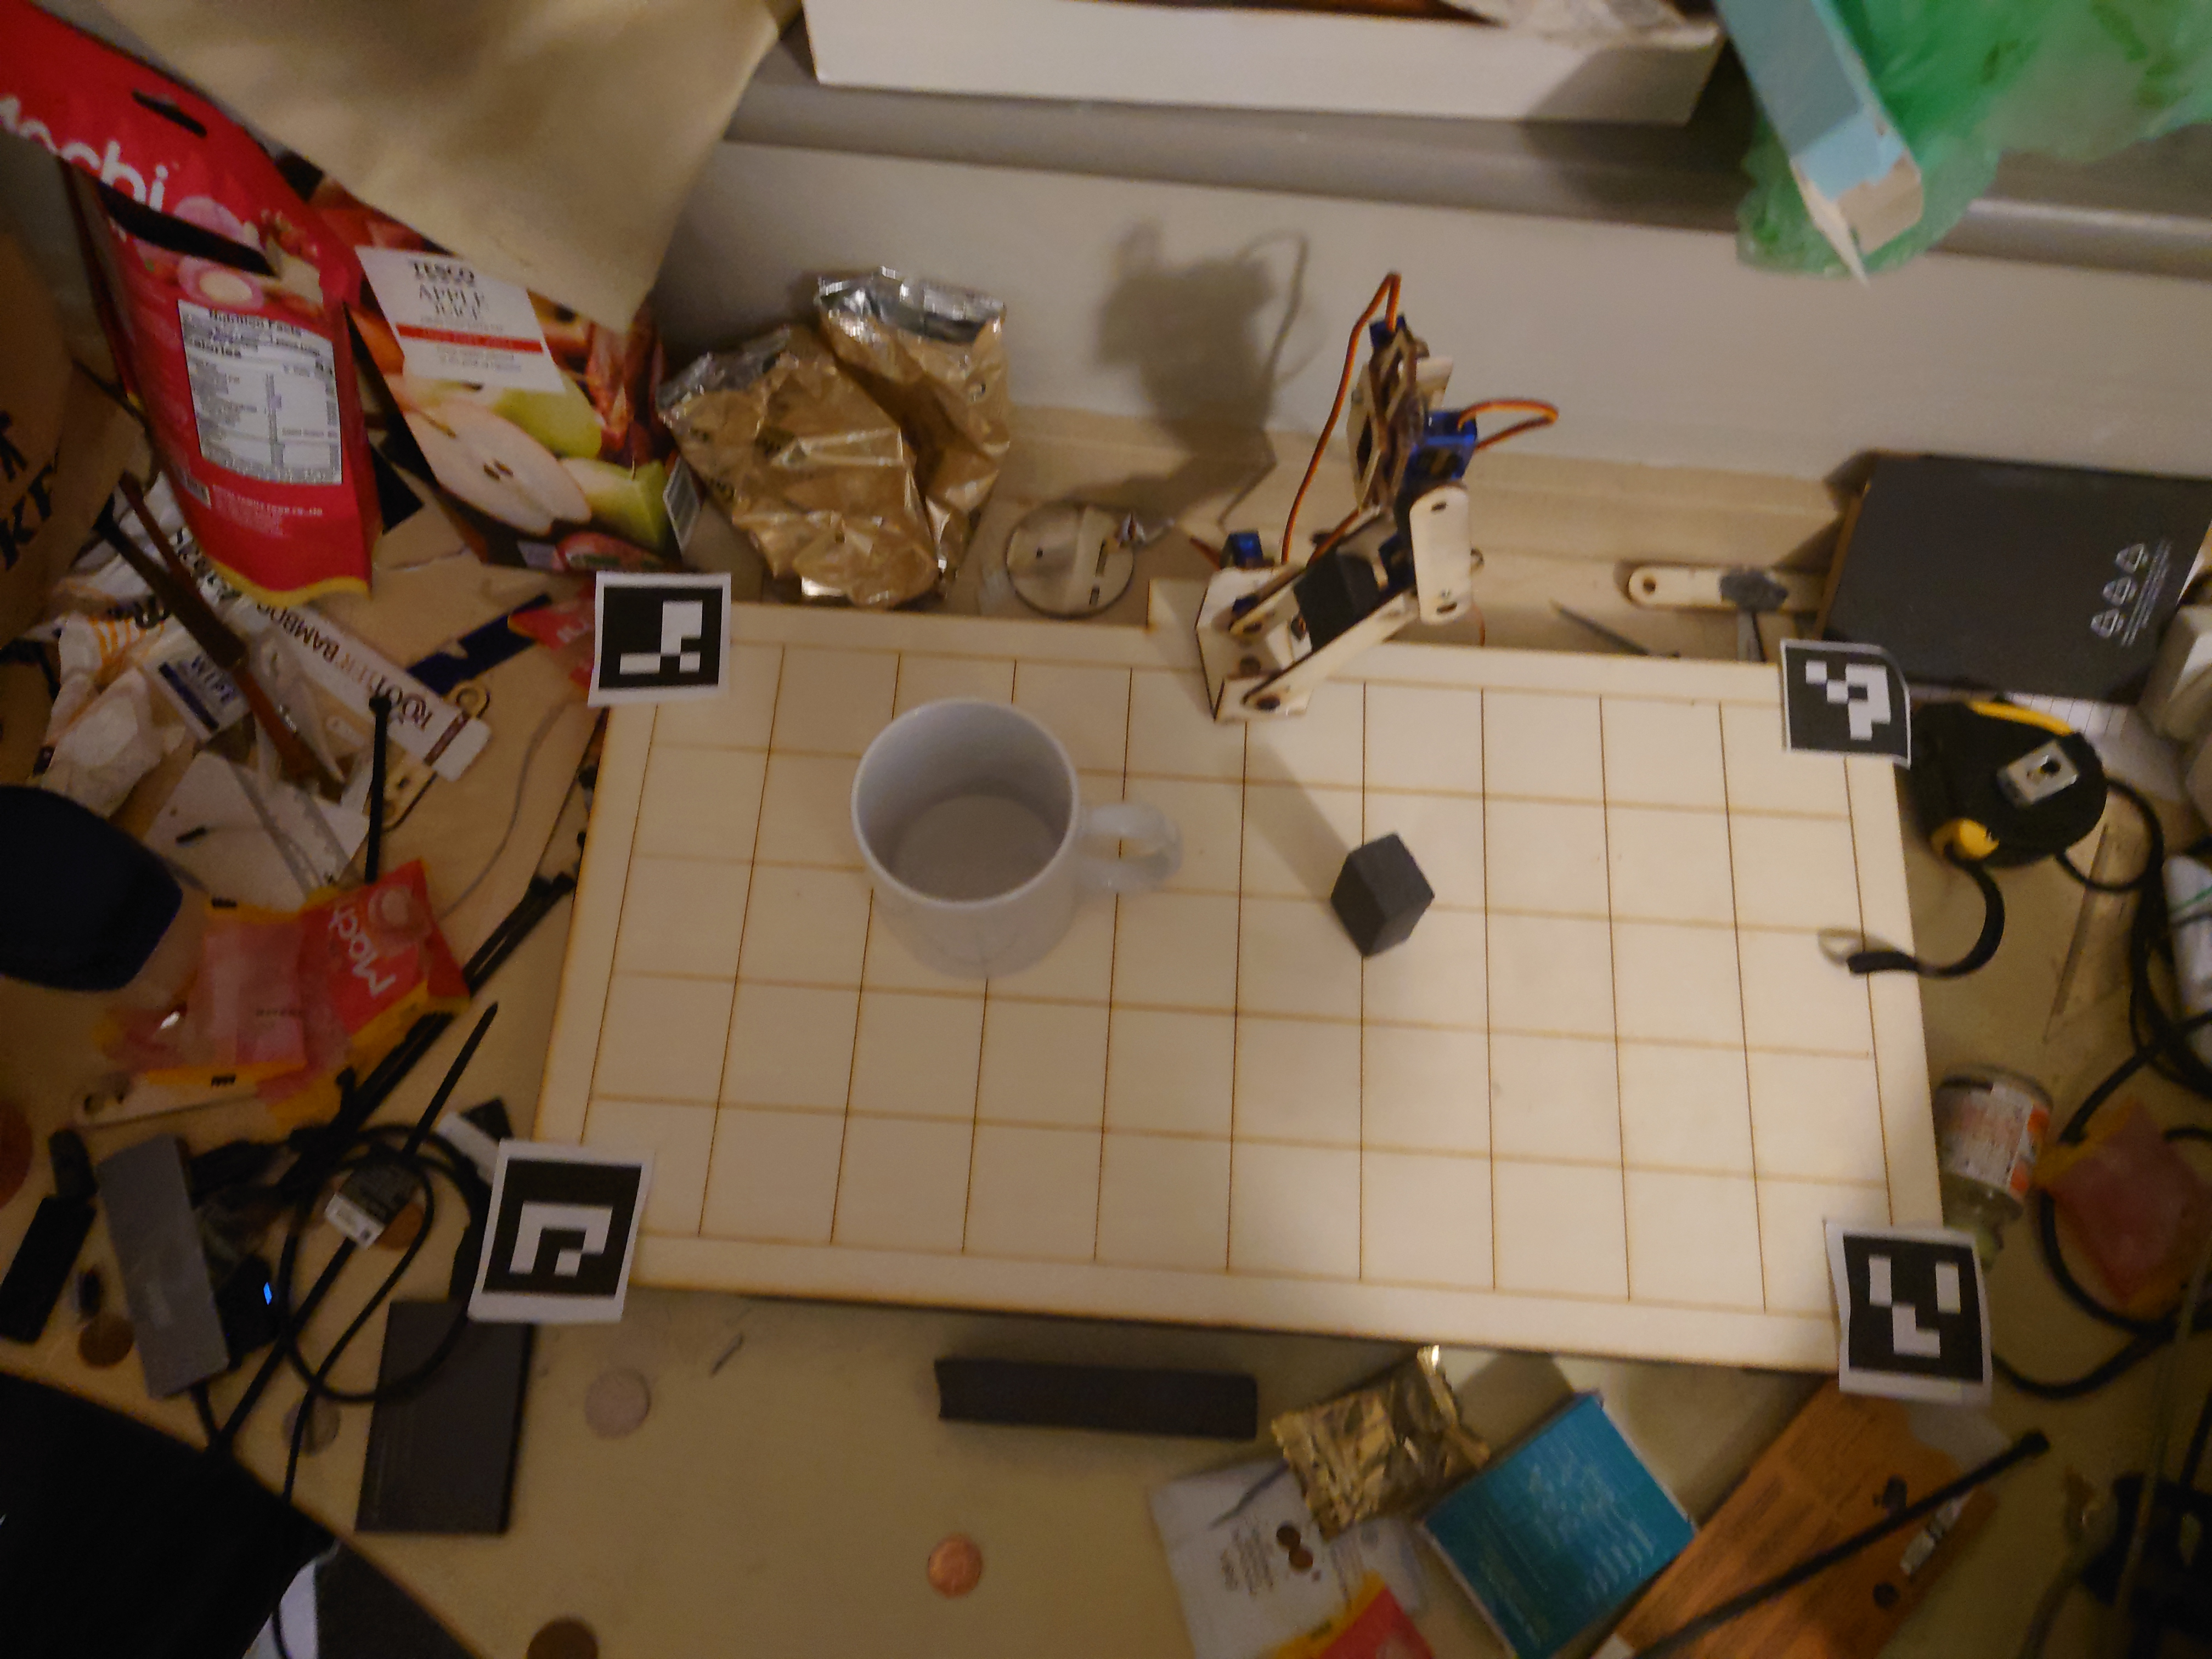cup: (836, 687, 1186, 983)
target: (1331, 831, 1433, 962)
